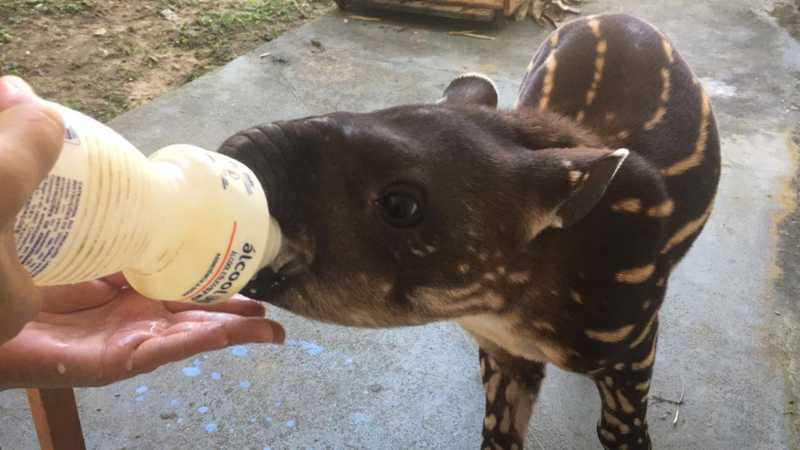Anta: (229, 16, 731, 437)
